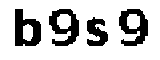9: (44, 6, 82, 50), (117, 6, 150, 51)
b: (11, 5, 45, 51)
s: (82, 17, 112, 52)
